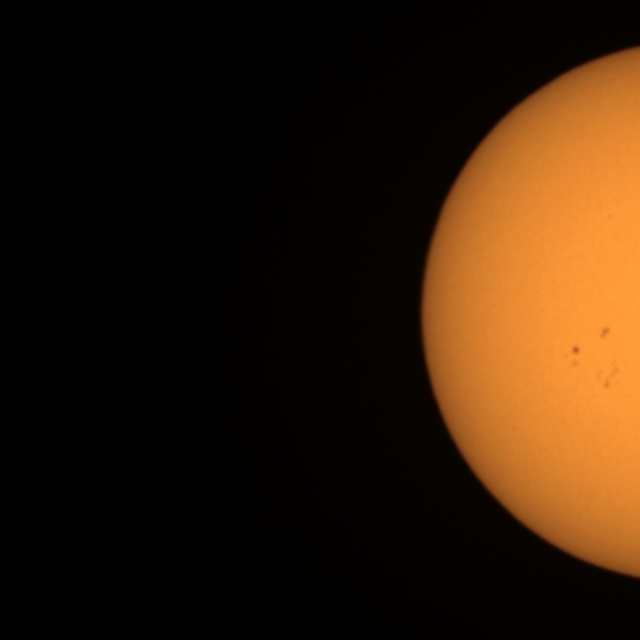sunspot: (594, 364, 623, 392), (568, 342, 583, 371), (597, 324, 613, 342)
